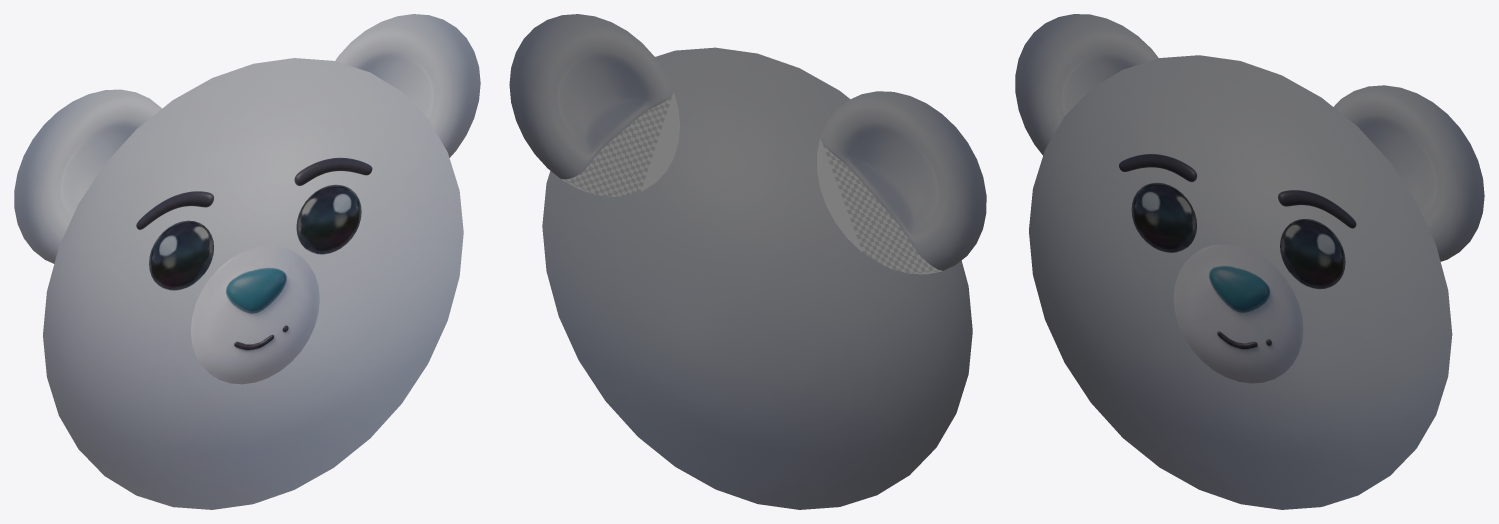
The model's file is head.glb.
3 views of the same model, side by side, from view 1: azimuth 30°, elevation 25°; view 2: azimuth 150°, elevation 25°; view 3: azimuth 330°, elevation 25° (orthographic). The views are drawn at different scales.
Parts seen in each view (by area): view 1: Cube, Cube.001, Cube.004, Cube.003, Cube.002, Cube.007, Cube.006, Cube.005; view 2: Cube, Cube.004, Cube.003; view 3: Cube, Cube.001, Cube.003, Cube.004, Cube.002, Cube.007, Cube.005, Cube.006.
Part boxes in pixels (bbox=[...]): Cube: bbox=[43, 58, 463, 509]; Cube.001: bbox=[190, 245, 319, 384]; Cube.004: bbox=[14, 89, 161, 263]; Cube.003: bbox=[335, 14, 480, 157]; Cube.002: bbox=[296, 184, 361, 254]; Cube.007: bbox=[149, 220, 213, 290]; Cube.006: bbox=[136, 191, 214, 229]; Cube.005: bbox=[294, 157, 372, 185]; Cube: bbox=[542, 47, 972, 509]; Cube.004: bbox=[817, 91, 986, 274]; Cube.003: bbox=[509, 14, 679, 196]; Cube: bbox=[1029, 55, 1452, 509]; Cube.001: bbox=[1173, 244, 1303, 383]; Cube.003: bbox=[1333, 85, 1484, 261]; Cube.004: bbox=[1015, 14, 1158, 155]; Cube.002: bbox=[1280, 219, 1345, 289]; Cube.007: bbox=[1131, 182, 1196, 252]; Cube.005: bbox=[1278, 190, 1356, 228]; Cube.006: bbox=[1119, 154, 1197, 181].
Size of the model in its own units: 1.84 by 1.68 by 0.0654.
Materials: 5 (5 with a texture image).
